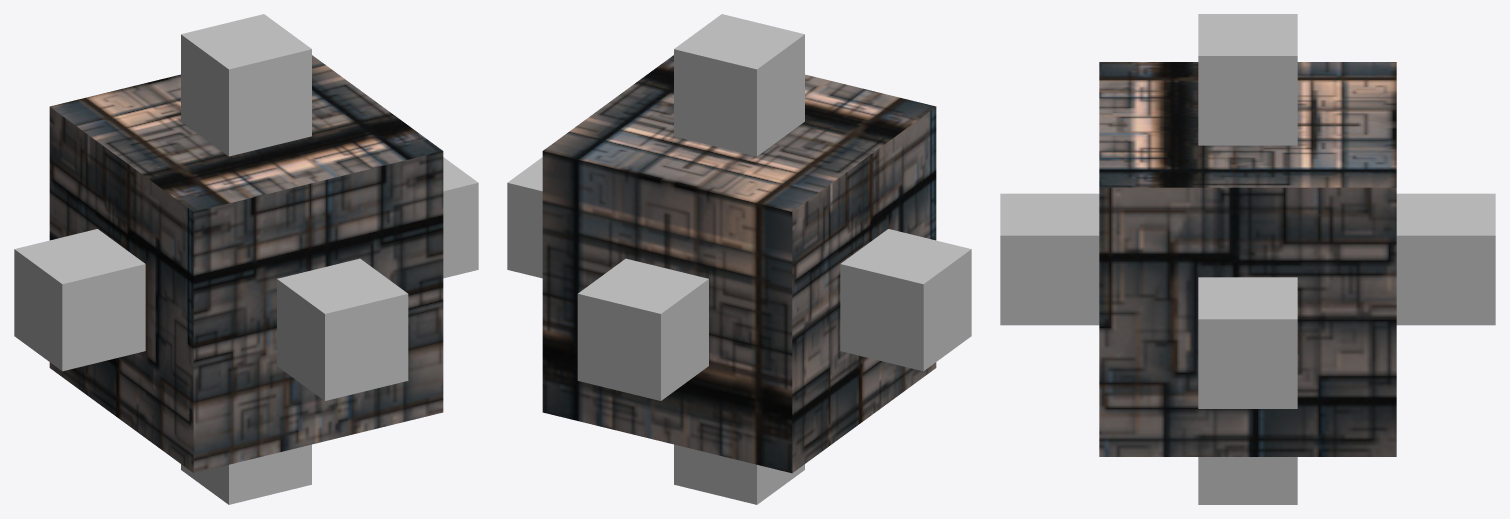
File: 6_nodes.fbx
3 renders of one model, left to right at view 1: azimuth 30°, elevation 25°; view 2: azimuth 150°, elevation 25°; view 3: azimuth 270°, elevation 25°, orthographic. The views are drawn at different scales.
Visible parts, largest first — view 1: pCube7, pCube5, pCube6, pCube3, pCube1, pCube4; view 2: pCube7, pCube2, pCube6, pCube3, pCube1, pCube4; view 3: pCube7, pCube2, pCube5, pCube3, pCube4, pCube1.
Boxes of the visible parts, box(x1,y1,x2,y2) form: pCube7: box(49, 55, 443, 473); pCube5: box(277, 258, 408, 400); pCube6: box(14, 229, 145, 371); pCube3: box(181, 14, 311, 156); pCube1: box(181, 444, 311, 504); pCube4: box(443, 157, 478, 278); pCube7: box(542, 55, 936, 473); pCube2: box(577, 258, 708, 400); pCube6: box(840, 229, 971, 371); pCube3: box(674, 14, 804, 156); pCube1: box(674, 444, 804, 504); pCube4: box(507, 157, 542, 278); pCube7: box(1099, 62, 1396, 456); pCube2: box(1396, 193, 1495, 325); pCube5: box(1000, 193, 1099, 325); pCube3: box(1198, 14, 1297, 145); pCube4: box(1198, 277, 1297, 408); pCube1: box(1198, 457, 1297, 504).
Bounding box in the file's own units: 10 × 10 × 10.
